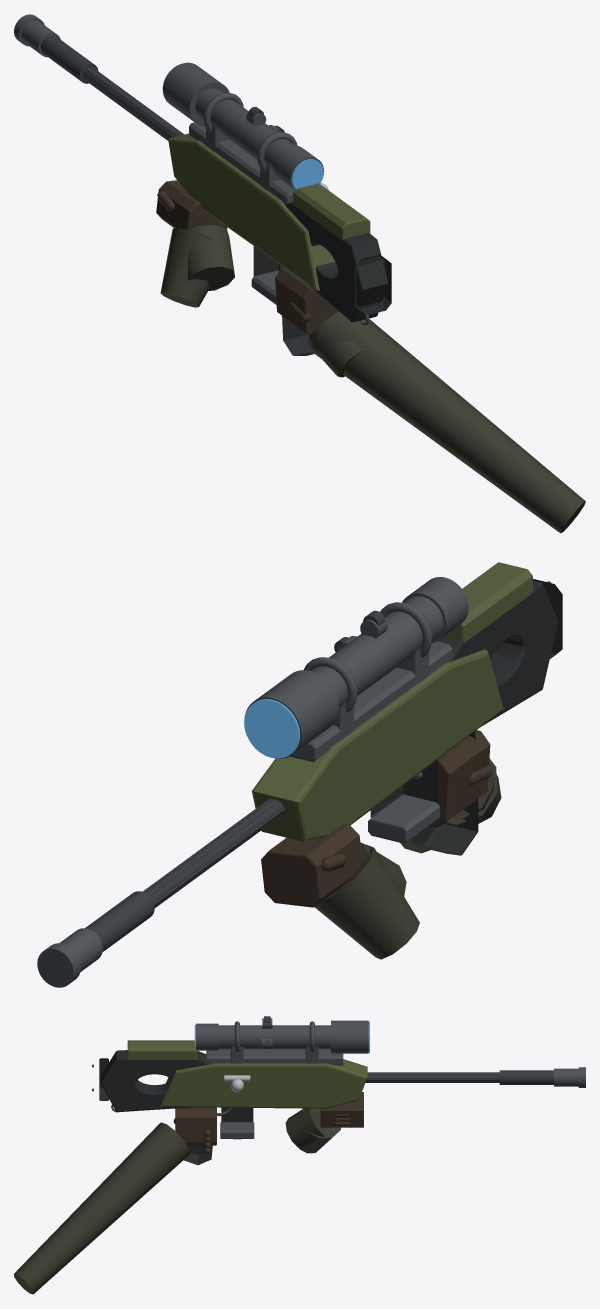
The model's file is awp.glb.
3 renders of one model, top to bottom at view 1: azimuth 30°, elevation 25°; view 2: azimuth 150°, elevation 25°; view 3: azimuth 270°, elevation 25°, orthographic. The views are drawn at different scales.
Parts seen in each view (by area): view 1: awp; view 2: awp; view 3: awp.
Boxes of the visible parts, x1,y1,x2,y2 form: awp: (14, 14, 585, 533); awp: (37, 562, 562, 987); awp: (14, 1016, 585, 1294).
Bounding box in the file's own units: 0.4683 × 0.6777 × 1.53.
